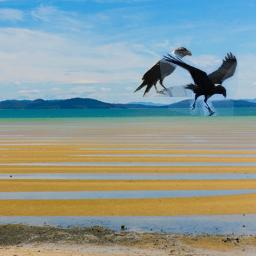Crow: (160, 51, 238, 116), (131, 45, 192, 97)
